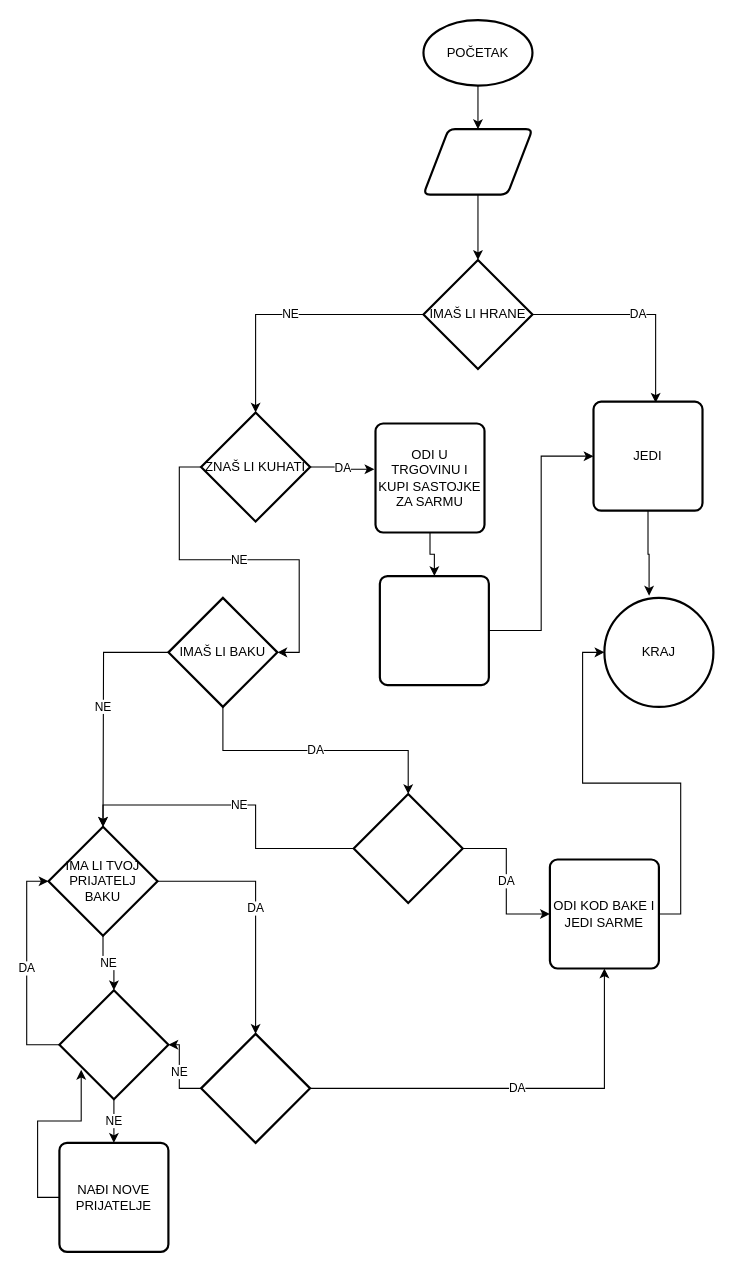
Image size: 734x1271. Some labels were removed from this diagram. Here are the shapes that lost their labels. From the top down, the centre of each, then its label:
At point 477,161: "GLAD".
At point 433,630: "SKUHAJ SARMU".
At point 407,848: "IMA LI TVOJA BAKA SARME".
At point 113,1044: "IMAŠ LI DRUGOG PRIJATELJA".
At point 255,1087: "IMA LI PRIJATLJEVA BAKA SARME".
